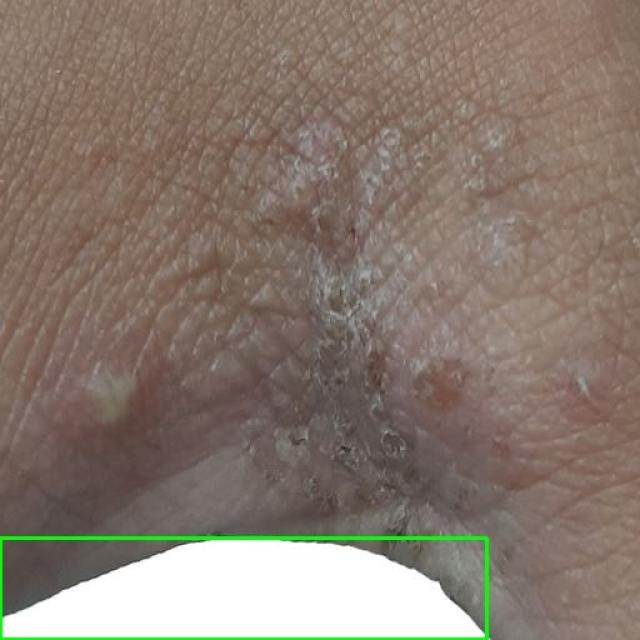Scabies: (0, 538, 486, 639)
